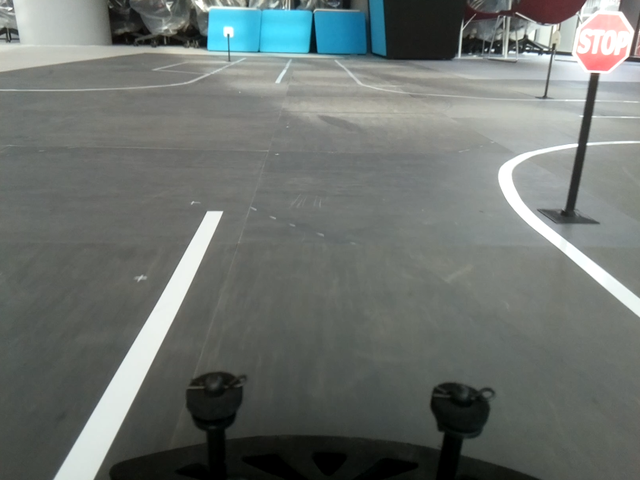stop: (573, 10, 634, 73)
